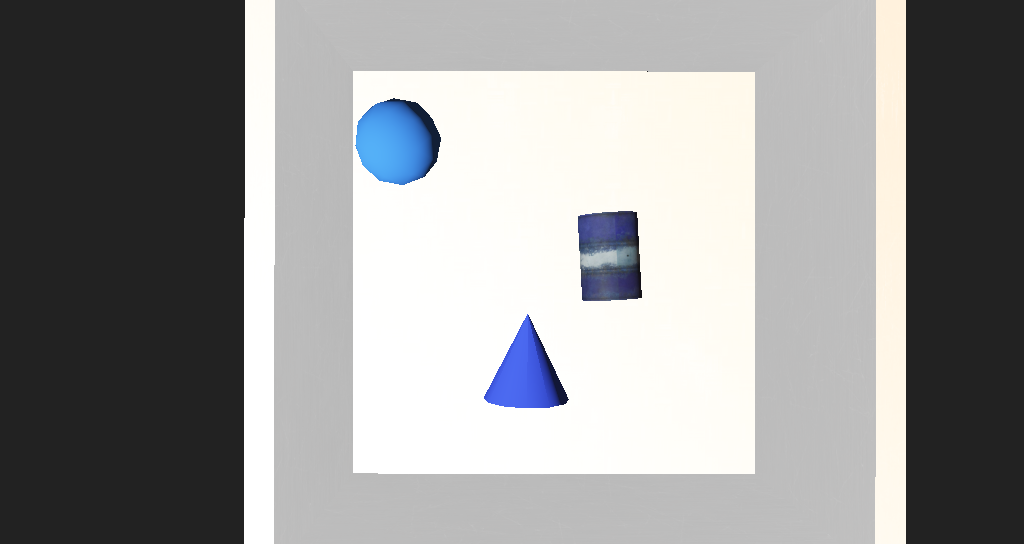cone: (519, 234, 573, 282)
cylinder: (455, 289, 515, 341)
sphere: (360, 177, 421, 224)
